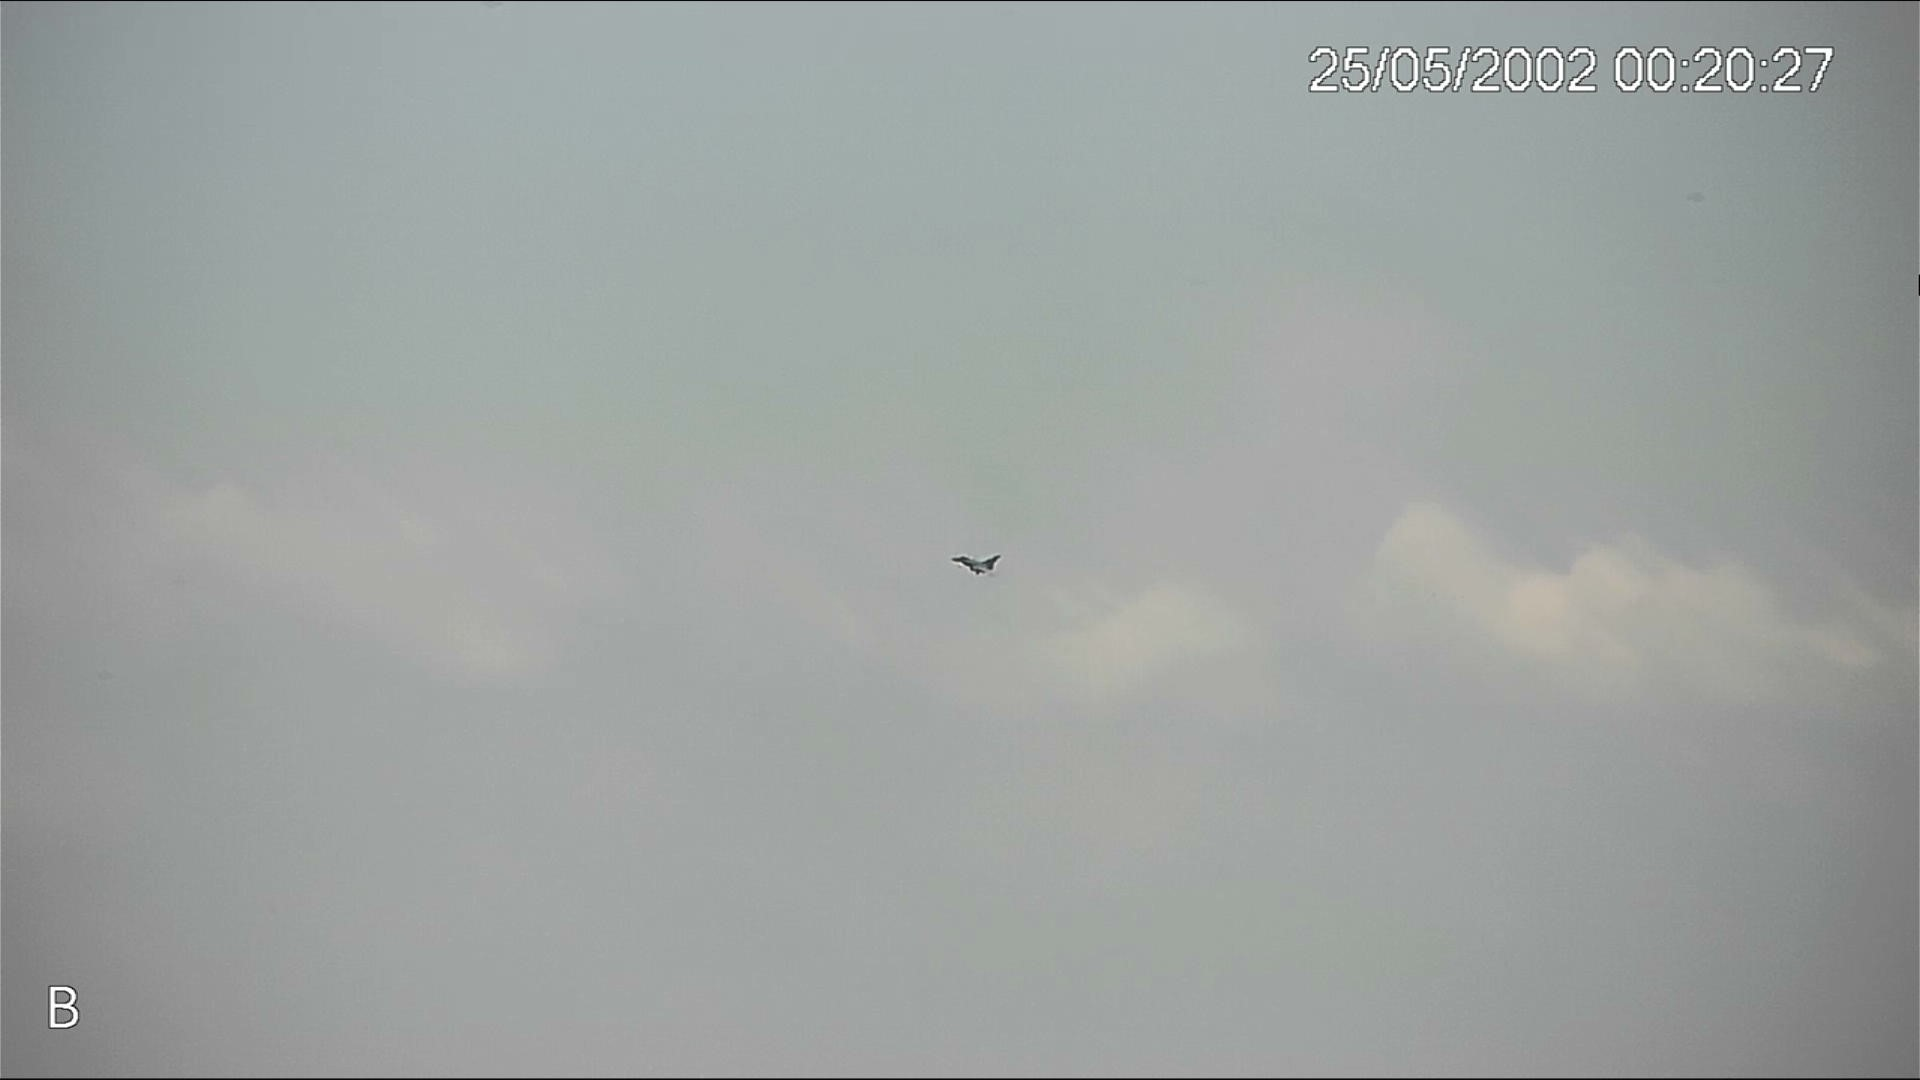SU_30: (951, 551, 1001, 578)
